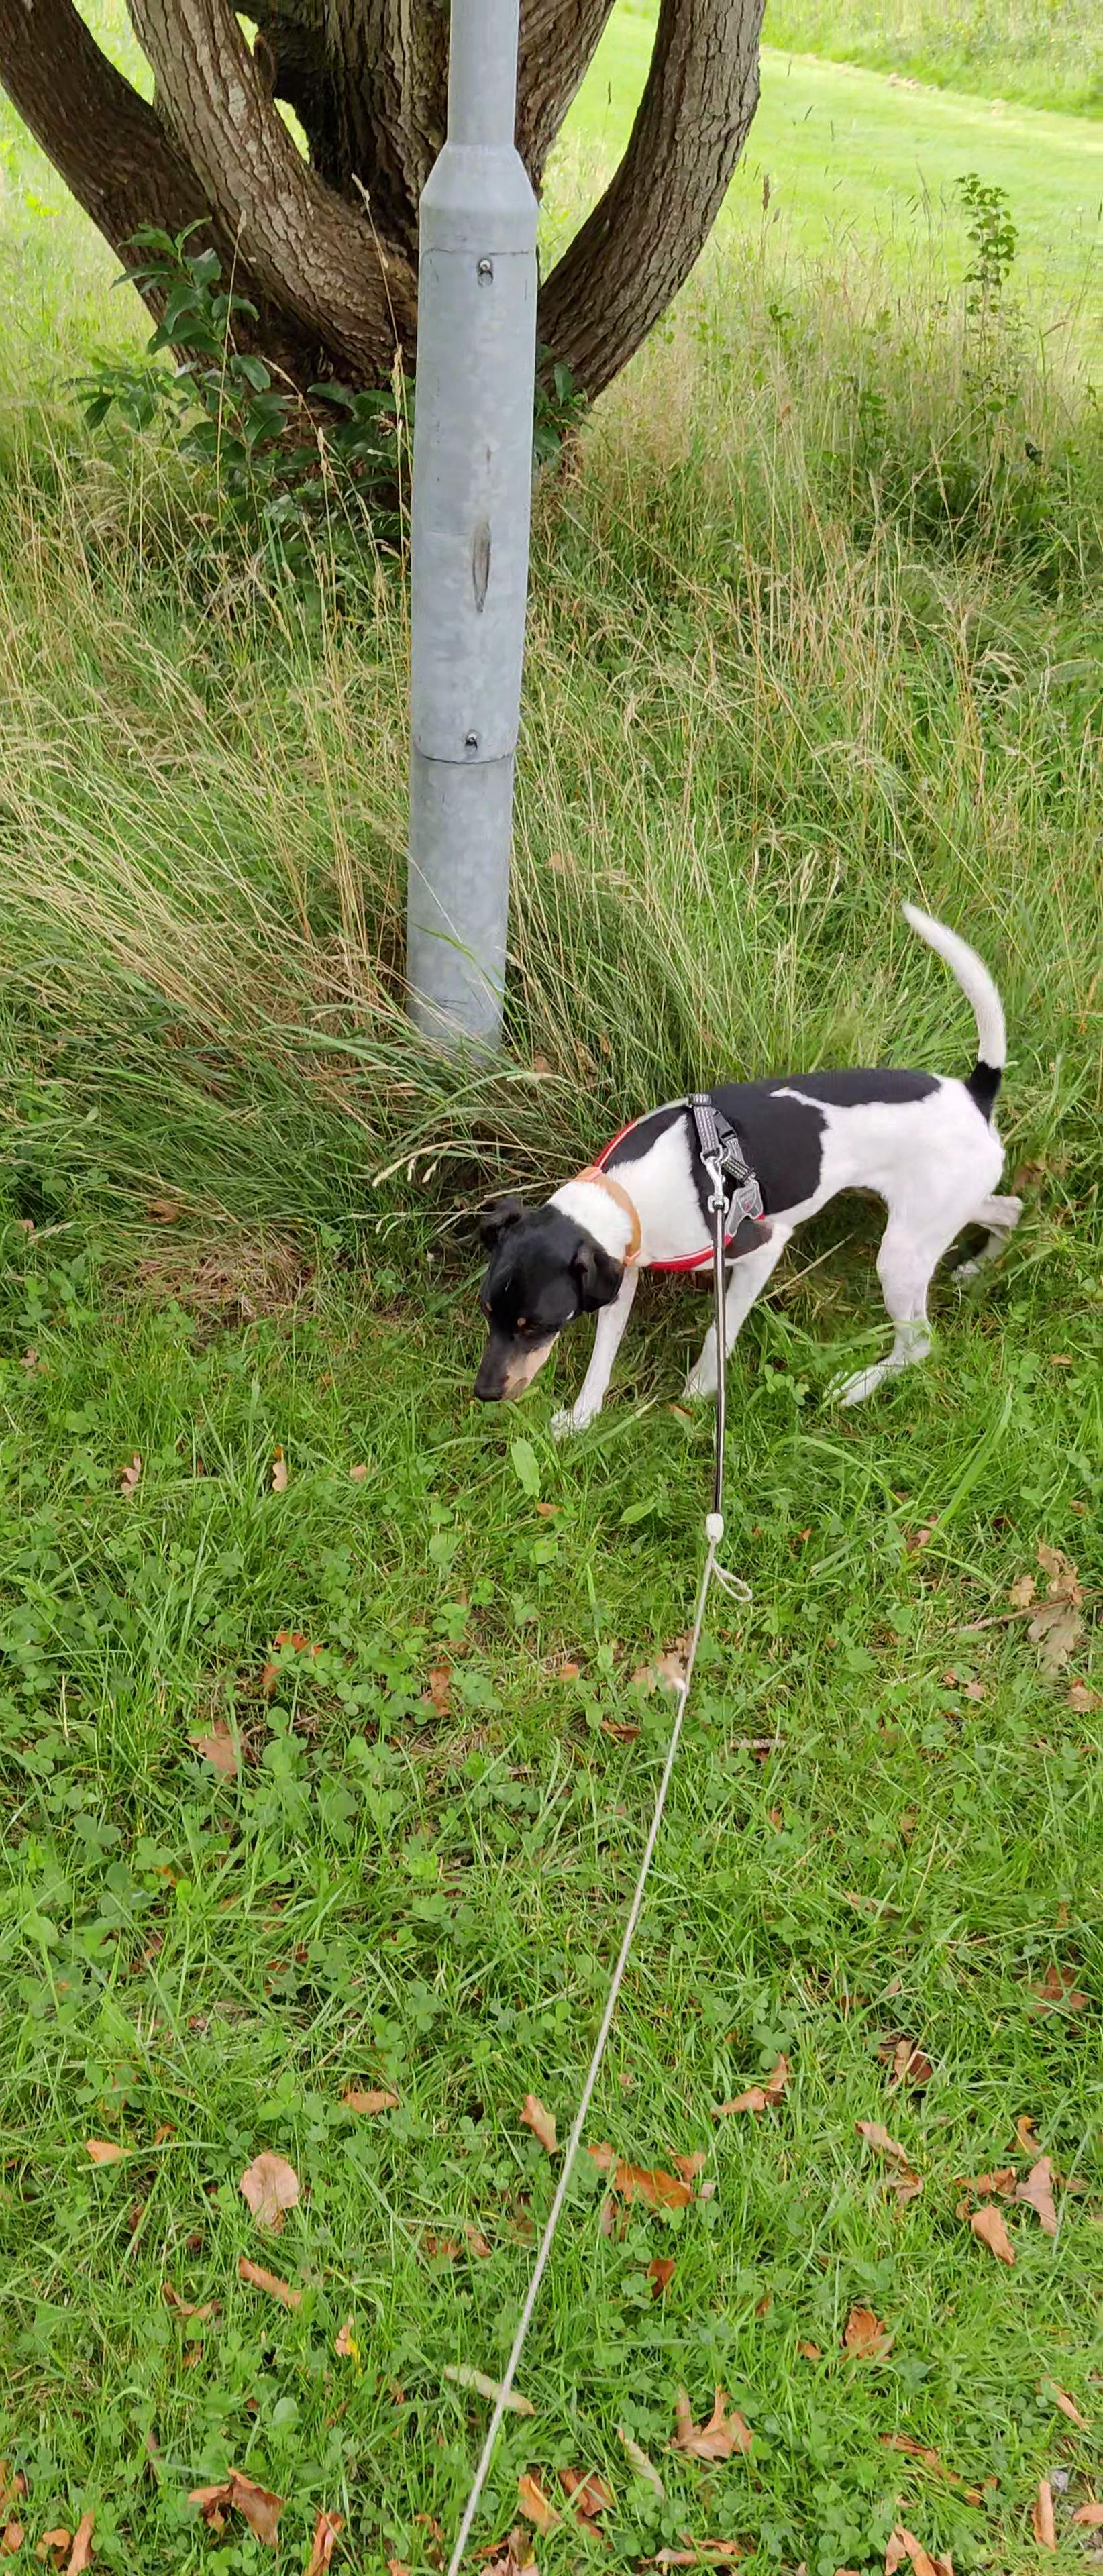Dog: (457, 897, 1032, 1429)
